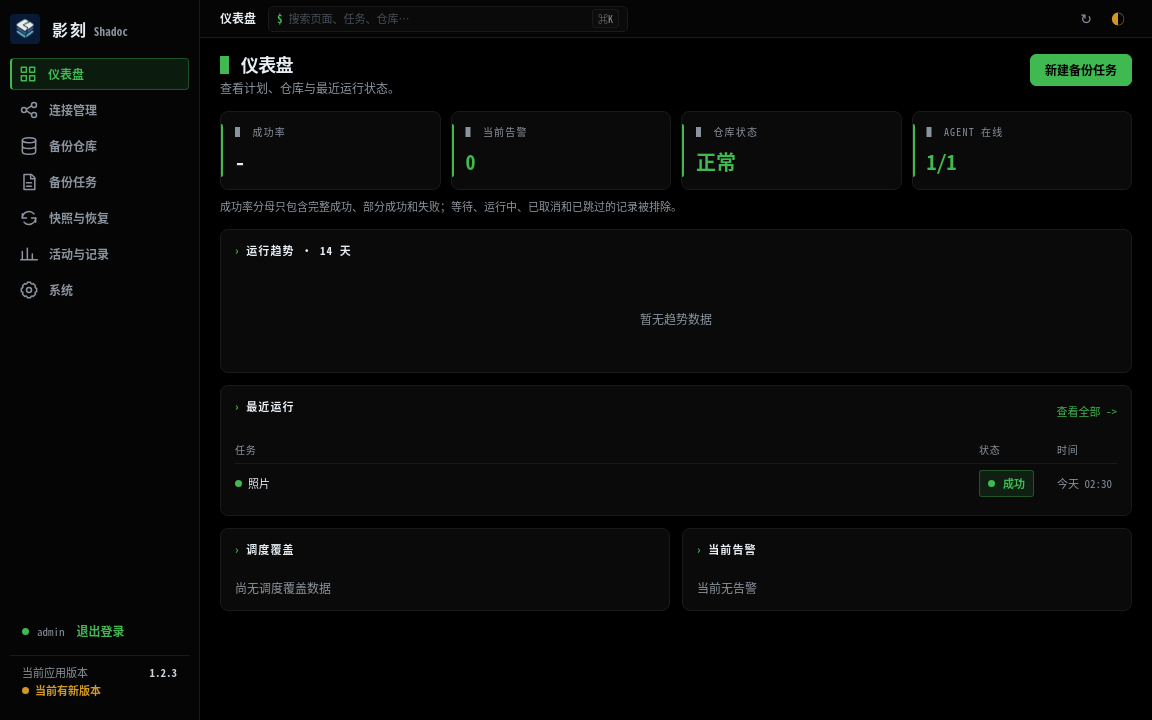
Test case: restic-control administration › installs official Restic on a managed Linux Agent and waits for capability verification
Expected: the heading "仪表盘" is shown, [241, 51, 293, 77]
Click the button "连接管理" at (100, 110), box [10, 94, 189, 126]
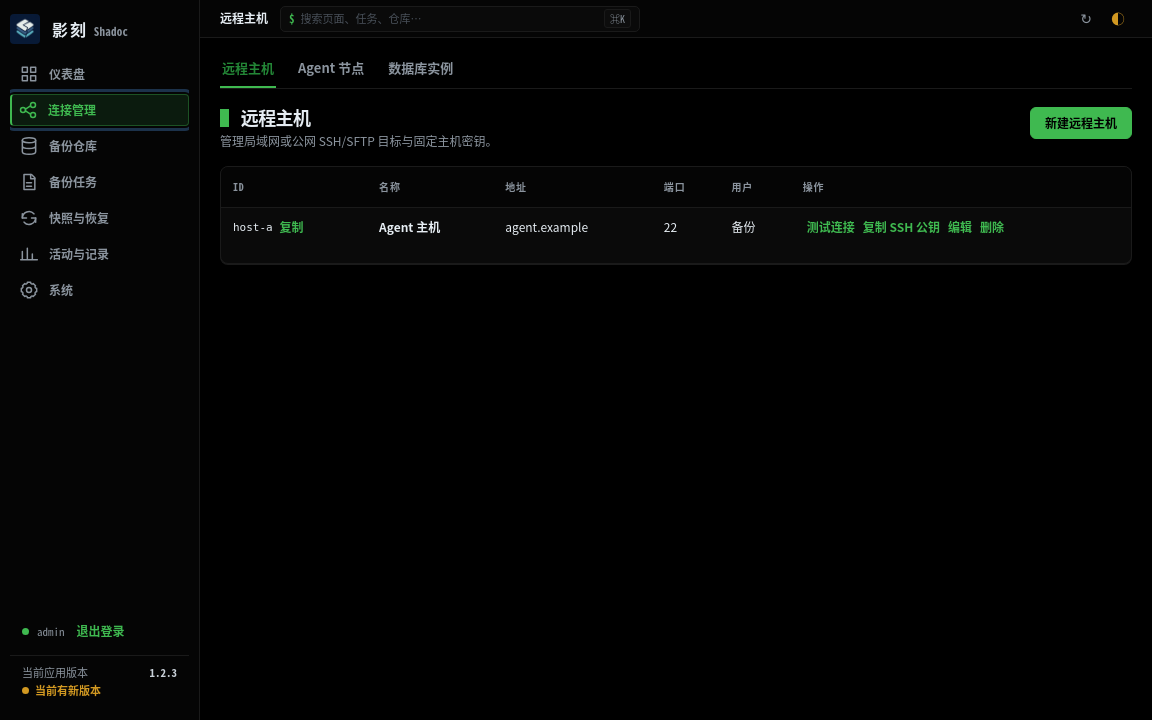
Click the tab "Agent 节点" at (331, 69), box [296, 50, 366, 88]
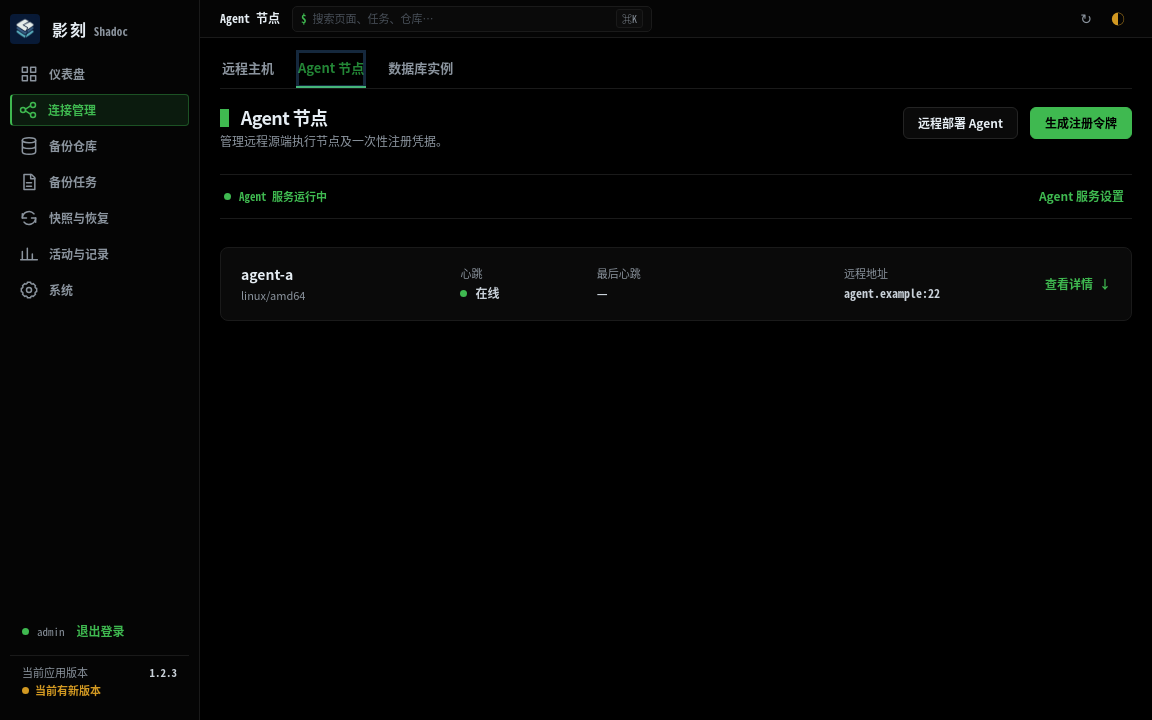
Click the button with aria-label "agent-a 查看详情" at (267, 274), box [221, 248, 1131, 320]
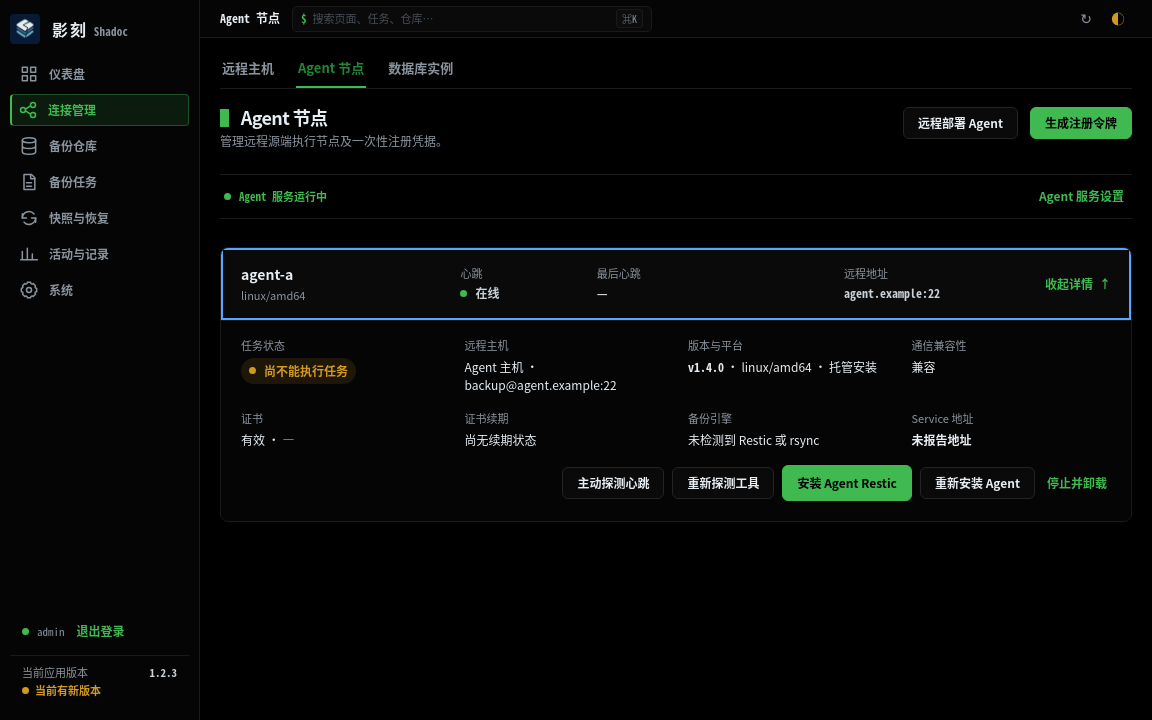
Click the button "安装 Agent Restic" at (847, 483), box [782, 465, 912, 501]
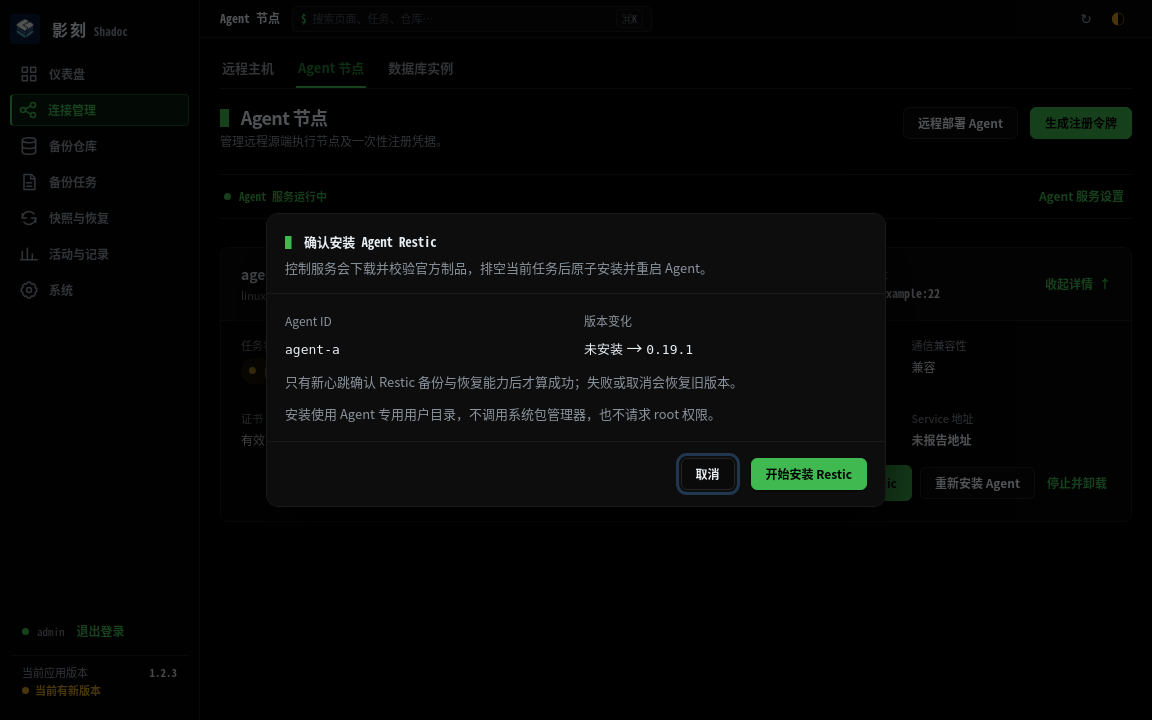
Result: the text "0.19.1" is shown at [646, 342, 693, 357]
Result: the text "安装使用 Agent 专用用户目录，不调用系统包管理器，也不请求 root 权限。" is shown at [285, 404, 754, 423]
Click the button "开始安装 Restic" at (809, 474), box [751, 458, 867, 490]
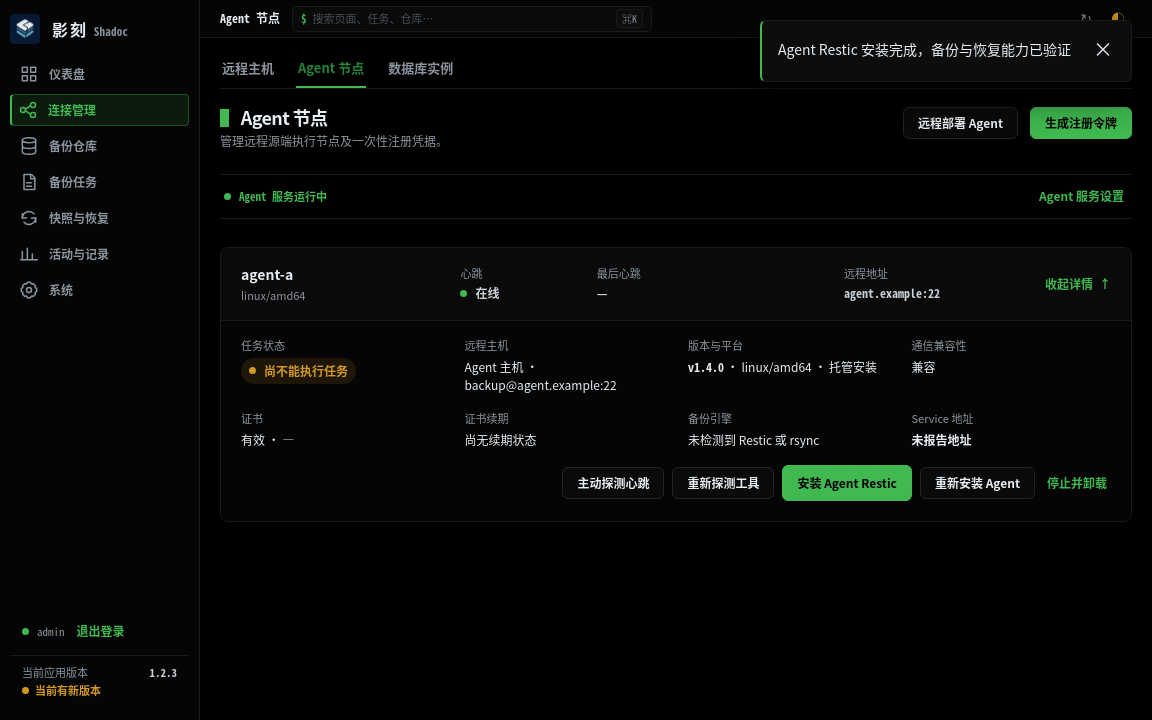
Result: the text "Agent Restic 安装完成，备份与恢复能力已验证" is shown at [778, 39, 1071, 59]
